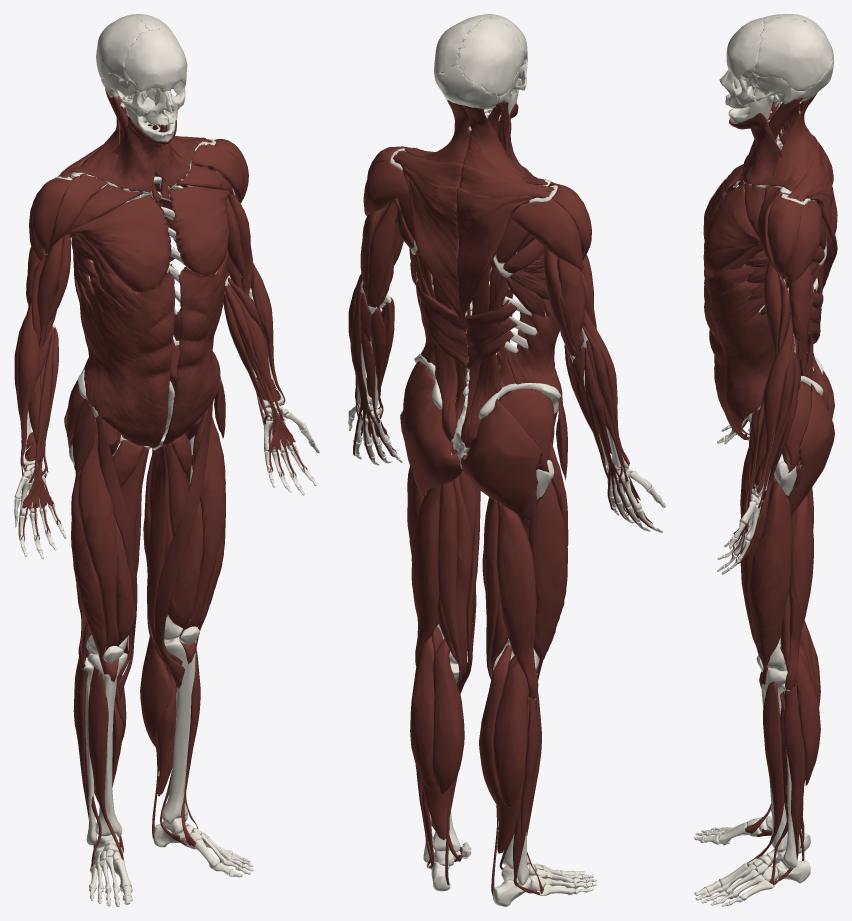
Rendered from anatomy.glb.
The picture shows the model from 3 angles, left to right: view 1: azimuth 30°, elevation 25°; view 2: azimuth 150°, elevation 25°; view 3: azimuth 270°, elevation 25°; orthographic projection. The views are drawn at different scales.
Parts seen in each view (by area): view 1: bone__0, obliques__right__0, obliques__left__0, bone__250, pectoralis-major__right__1, quadriceps__right__0, pectoralis-major__left__1, quadriceps__left__0, context__left__25, bone__265, quadriceps__right__1, context__right__71 (+39 smaller); view 2: bone__250, bone__0, gluteus-maximus__right__0, hamstrings__right__0, quadriceps__right__1, trapezius__left__2, trapezius__right__2, gluteus-maximus__left__0, gastrocnemius__right__1, gastrocnemius__left__0, hamstrings__left__0, obliques__right__0 (+44 smaller); view 3: obliques__left__0, bone__250, bone__0, quadriceps__left__1, hamstrings__left__0, pectoralis-major__left__1, gluteus-maximus__left__0, bone__265, tibialis-anterior__left__0, context__left__35, lateral-deltoid__left__0, trapezius__left__0 (+32 smaller).
Boxes of the visible parts, x1,y1,x2,y2 form: bone__0: [14, 141, 319, 906]; obliques__right__0: [79, 261, 175, 448]; obliques__left__0: [160, 249, 228, 445]; bone__250: [54, 14, 220, 455]; pectoralis-major__right__1: [65, 195, 171, 292]; quadriceps__right__0: [78, 420, 119, 682]; pectoralis-major__left__1: [168, 186, 230, 276]; quadriceps__left__0: [179, 407, 225, 664]; context__left__25: [155, 400, 213, 688]; bone__265: [101, 73, 186, 202]; quadriceps__right__1: [71, 469, 107, 674]; context__right__71: [68, 116, 167, 192]; bone__250: [390, 14, 562, 455]; bone__0: [348, 147, 665, 895]; gluteus-maximus__right__0: [461, 399, 542, 522]; hamstrings__right__0: [496, 502, 538, 699]; quadriceps__right__1: [528, 480, 567, 680]; trapezius__left__2: [401, 165, 465, 328]; trapezius__right__2: [456, 187, 535, 328]; gluteus-maximus__left__0: [400, 383, 462, 497]; gastrocnemius__right__1: [493, 660, 528, 807]; gastrocnemius__left__0: [432, 638, 464, 793]; hamstrings__left__0: [411, 485, 441, 666]; obliques__right__0: [504, 299, 562, 402]; obliques__left__0: [704, 264, 775, 440]; bone__250: [719, 14, 833, 468]; bone__0: [694, 180, 818, 906]; quadriceps__left__1: [748, 474, 792, 684]; hamstrings__left__0: [785, 494, 813, 690]; pectoralis-major__left__1: [703, 184, 761, 276]; gluteus-maximus__left__0: [788, 383, 834, 514]; bone__265: [724, 72, 813, 370]; tibialis-anterior__left__0: [747, 681, 783, 862]; context__left__35: [729, 113, 796, 191]; lateral-deltoid__left__0: [767, 196, 801, 279]; trapezius__left__0: [770, 93, 816, 186].
Size of the model in its own units: 0.6478 by 1.71 by 0.2606.
